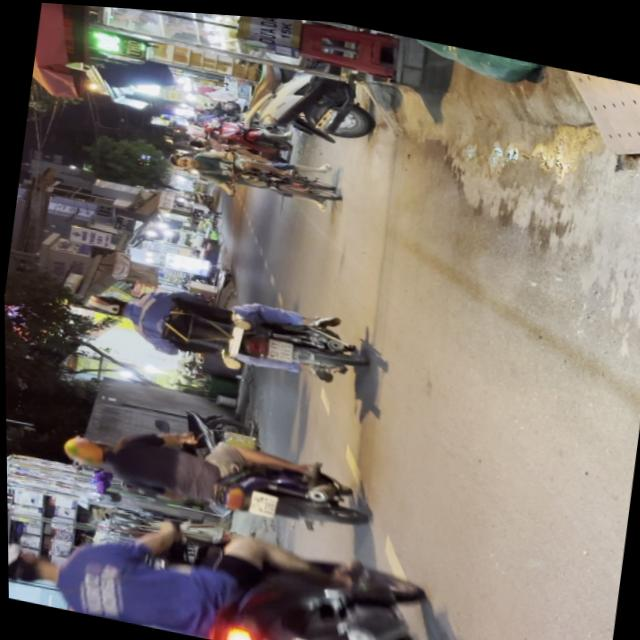helmet: (6, 538, 56, 592), (58, 432, 111, 470), (84, 289, 131, 319)
licenseplate: (6, 479, 471, 640), (53, 404, 373, 539), (77, 262, 373, 392)
nohelmet: (246, 487, 275, 515), (264, 335, 293, 360), (288, 634, 334, 640)
